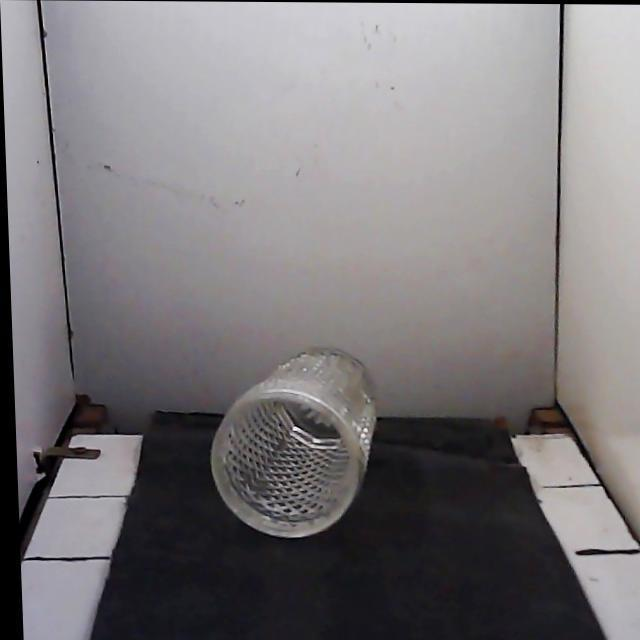vidro: (211, 348, 376, 537)
